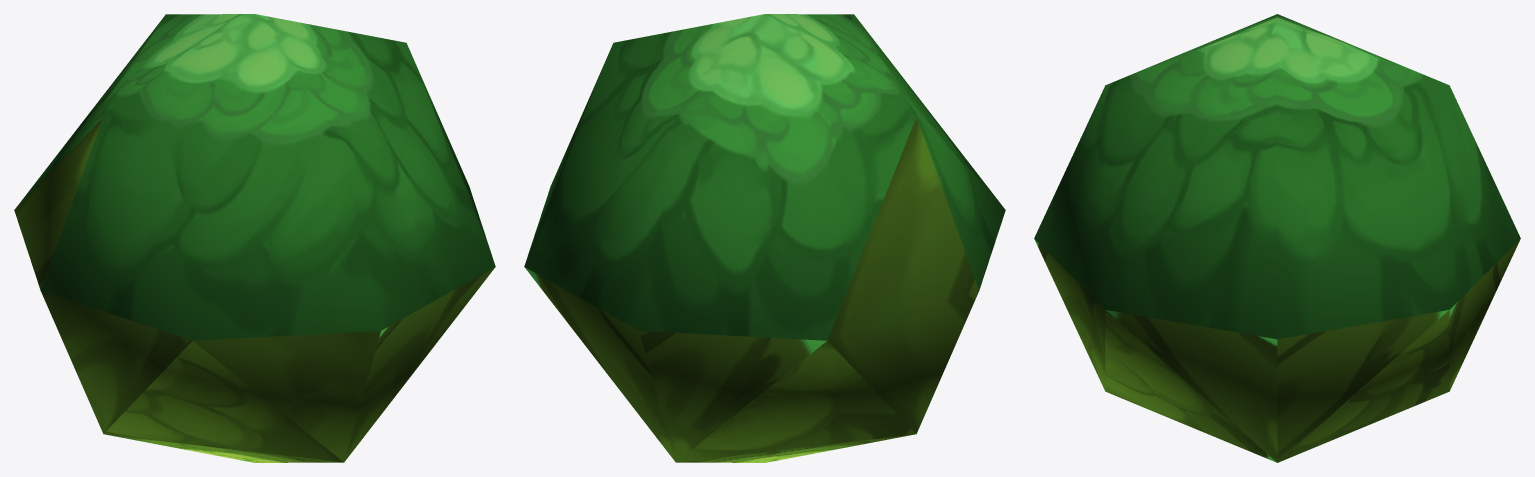
The model's file is Bush1@Model.fbx.
3 views of the same model, side by side, from view 1: azimuth 30°, elevation 25°; view 2: azimuth 150°, elevation 25°; view 3: azimuth 270°, elevation 25° (orthographic). The views are drawn at different scales.
Parts seen in each view (by area): view 1: Bush1; view 2: Bush1; view 3: Bush1.
Part boxes in pixels (left/top/right/bottom): Bush1: left=14, top=14, right=495, bottom=462; Bush1: left=524, top=14, right=1005, bottom=462; Bush1: left=1034, top=14, right=1520, bottom=462.
Size of the model in its own units: 244 by 244 by 249.
